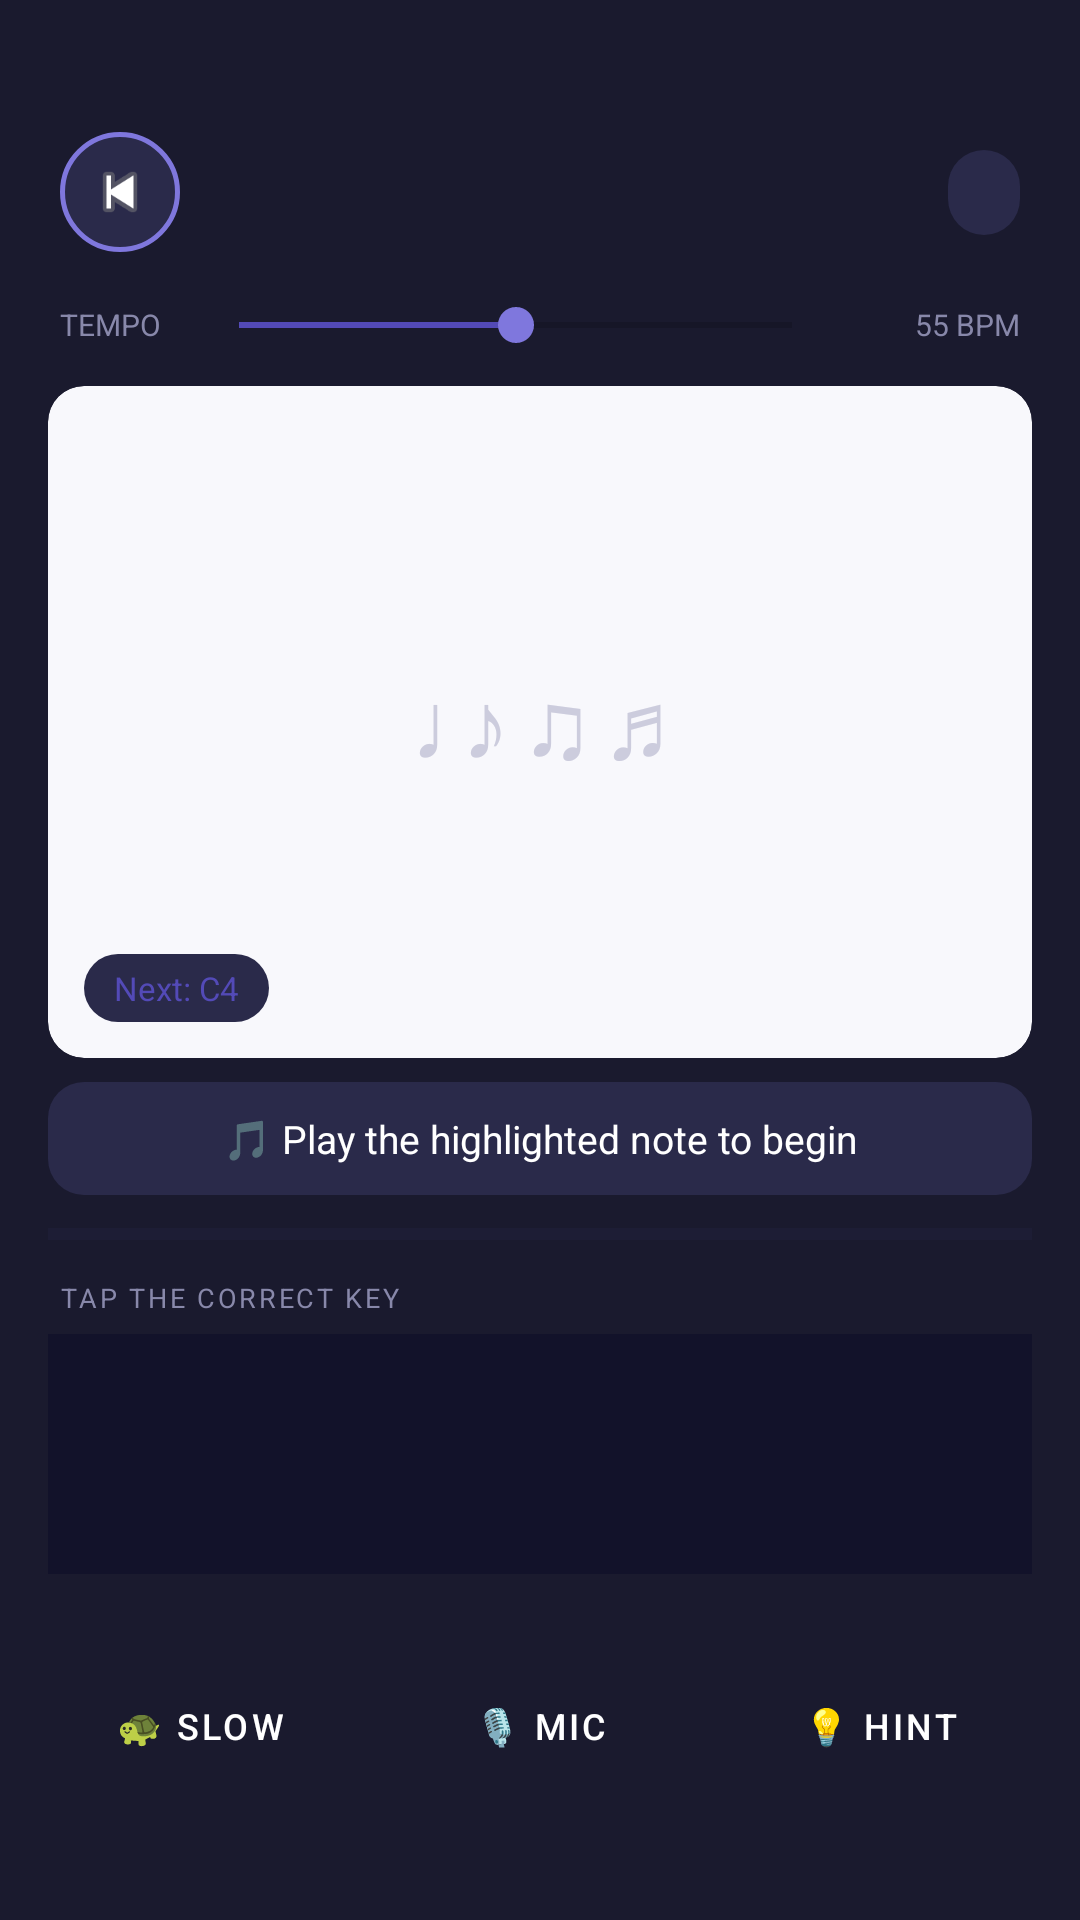

Locate icon controls on the screen. Image size 1080w x 1920h, boxes as (x1, y1, x2, y2).
previous: (60, 132, 180, 252)
